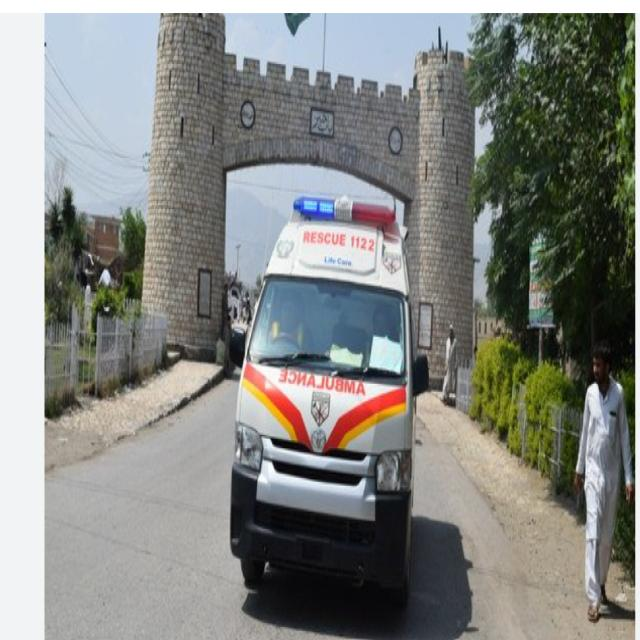ambulance: (238, 200, 421, 628)
